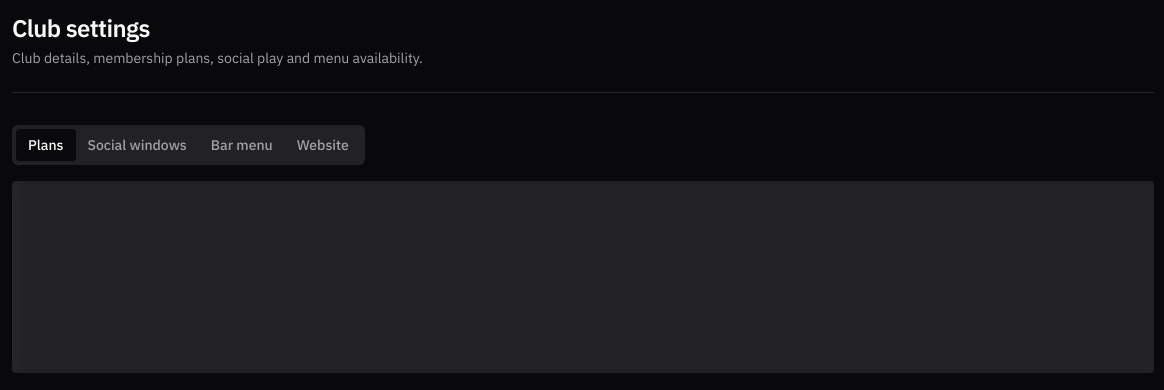
Test: club settings screen › does not expose social edits to an admin without court update permission
The width and height of the screenshot is (1164, 390).
Press the mouse on the tab "Social windows" at (137,145), box [76,129,199,161]
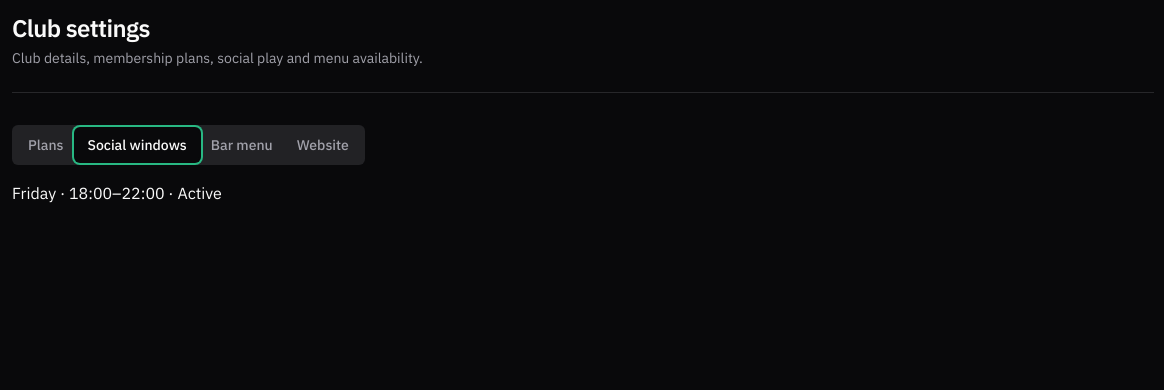
Check: the text "Friday · 18:00–22:00 · Active" is shown, box [12,183,222,203]
